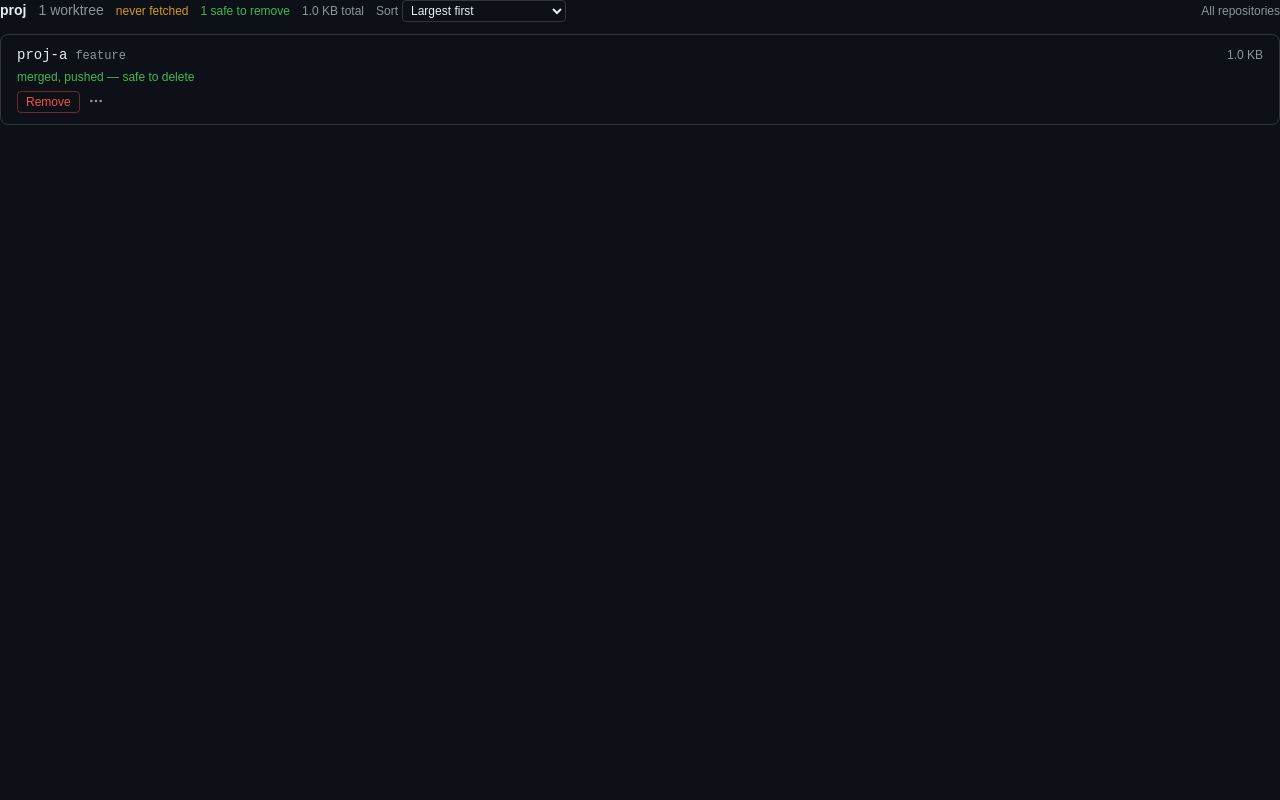
WorktreesPage on a phone › stacks a worktree row: name and size, then safety, then the action
The width and height of the screenshot is (1280, 800).
Expected: the text "merged, pushed — safe to delete" is shown, [17,70,194,84]
What coordinates should you click on to do the following:
click the button "Remove"
I would click on:
 (48, 102)
Its box is [17,90,80,112].
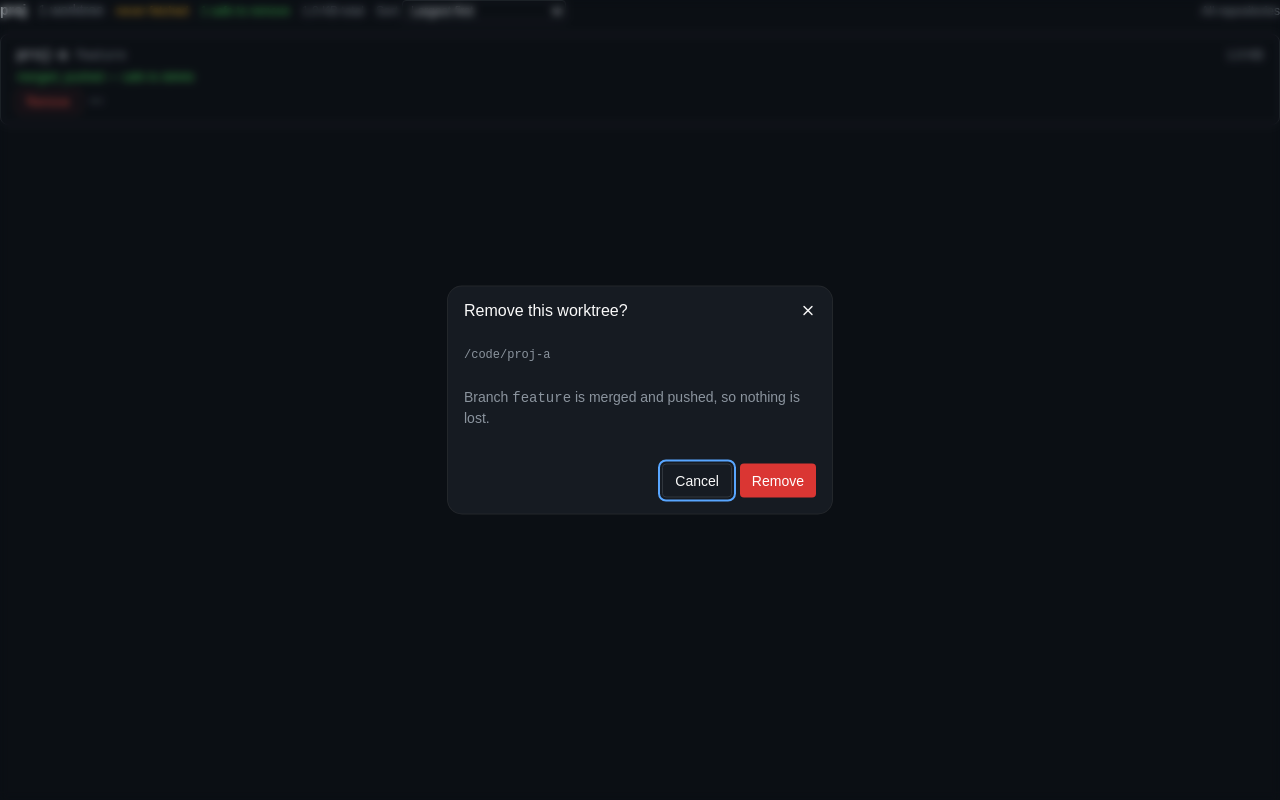
Now the dialog is shown, box [448,286,832,514]
